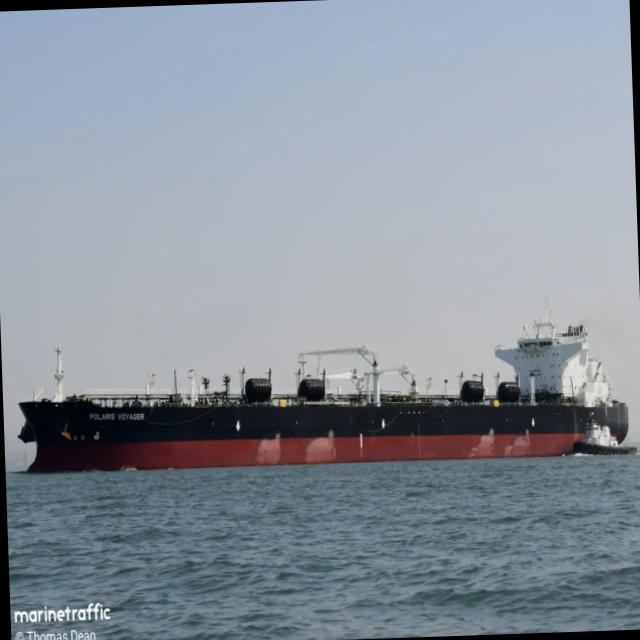Tanker: (18, 313, 628, 471)
